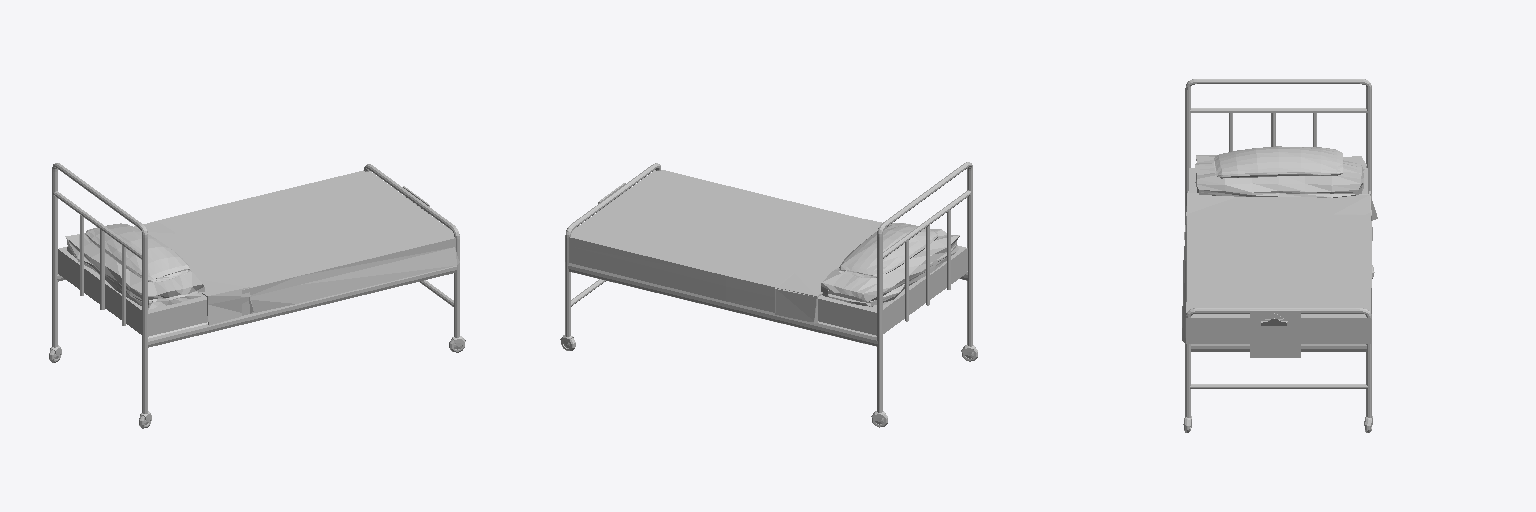
The model's file is HOSPITAL_BED.obj.
3 renders of one model, left to right at view 1: azimuth 30°, elevation 25°; view 2: azimuth 150°, elevation 25°; view 3: azimuth 270°, elevation 25°, orthographic.
Visible parts, largest first — view 1: Sheets Hospital_bed Sheet2, Hospital_bed Mattress Mattress, Sheet1 Sheets Hospital_bed, Hospital_bed Pillow Pillow2, Hospital_bed Metal_bed Metal, Hospital_bed Pillow1 Pillow, Hospital_bed Metal Metal_bed5, Hospital_bed Metal Metal_bed6, Hospital_bed Metal Metal_bed1; view 2: Sheets Hospital_bed Sheet2, Hospital_bed Mattress Mattress, Sheet1 Sheets Hospital_bed, Hospital_bed Pillow Pillow2, Hospital_bed Metal Metal_bed9, Hospital_bed Metal_bed Metal, Hospital_bed Pillow1 Pillow, Hospital_bed Metal Metal_bed6, Hospital_bed Metal Metal_bed1; view 3: Sheets Hospital_bed Sheet2, Hospital_bed Pillow Pillow2, Hospital_bed Pillow1 Pillow, Sheet1 Sheets Hospital_bed, Hospital_bed Metal_bed Metal, Hospital_bed Metal Metal_bed6, Hospital_bed wood Carpet, Hospital_bed Carpet paper, Hospital_bed Metal Metal_bed7, Hospital_bed Metal Metal_bed8, Hospital_bed Metal Metal_bed1.
Part boxes in pixels (x1,y1,x2,y2): Sheets Hospital_bed Sheet2: (150, 170, 459, 315); Hospital_bed Mattress Mattress: (58, 246, 207, 336); Sheet1 Sheets Hospital_bed: (134, 223, 253, 325); Hospital_bed Pillow Pillow2: (65, 223, 204, 309); Hospital_bed Metal_bed Metal: (52, 163, 147, 413); Hospital_bed Pillow1 Pillow: (85, 224, 189, 282); Hospital_bed Metal Metal_bed5: (147, 266, 456, 347); Hospital_bed Metal Metal_bed6: (364, 164, 459, 337); Hospital_bed Metal Metal_bed1: (53, 191, 141, 259); Sheets Hospital_bed Sheet2: (565, 170, 865, 312); Hospital_bed Mattress Mattress: (818, 245, 967, 335); Sheet1 Sheets Hospital_bed: (775, 219, 881, 323); Hospital_bed Pillow Pillow2: (821, 223, 959, 308); Hospital_bed Metal Metal_bed9: (568, 263, 877, 346); Hospital_bed Metal_bed Metal: (877, 162, 972, 412); Hospital_bed Pillow1 Pillow: (839, 223, 937, 277); Hospital_bed Metal Metal_bed6: (565, 163, 660, 336); Hospital_bed Metal Metal_bed1: (883, 190, 971, 258); Sheets Hospital_bed Sheet2: (1182, 212, 1371, 343); Hospital_bed Pillow Pillow2: (1195, 155, 1366, 197); Hospital_bed Pillow1 Pillow: (1214, 146, 1342, 178); Sheet1 Sheets Hospital_bed: (1184, 193, 1377, 240); Hospital_bed Metal_bed Metal: (1185, 79, 1371, 213); Hospital_bed Metal Metal_bed6: (1185, 308, 1371, 417); Hospital_bed wood Carpet: (1250, 310, 1300, 357); Hospital_bed Carpet paper: (1254, 324, 1295, 350); Hospital_bed Metal Metal_bed7: (1191, 344, 1366, 351); Hospital_bed Metal Metal_bed8: (1190, 384, 1367, 388); Hospital_bed Metal Metal_bed1: (1190, 108, 1367, 112).
Size of the model in its own units: 21.01 by 12.39 by 10.93.